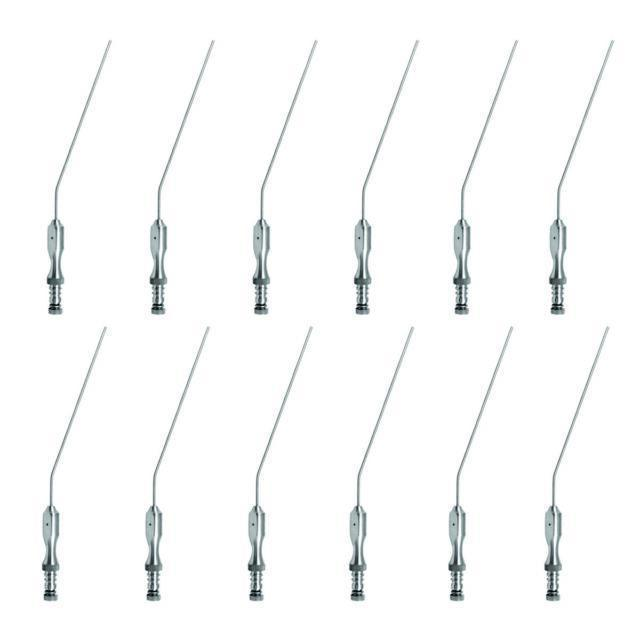Frazier: (543, 36, 617, 317), (345, 321, 418, 604), (242, 323, 315, 604), (248, 37, 320, 319), (44, 37, 115, 320), (449, 38, 521, 316), (352, 36, 422, 316), (443, 323, 513, 603), (143, 322, 212, 604), (542, 324, 611, 606), (148, 35, 216, 316), (39, 326, 106, 604)
